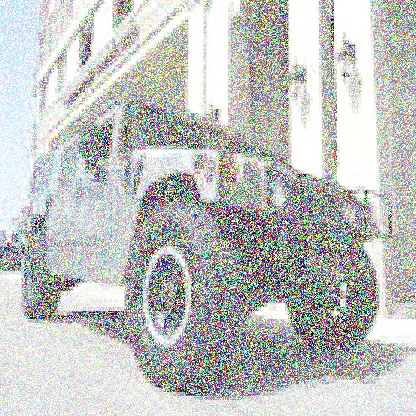Vehicle: (9, 93, 401, 396)
